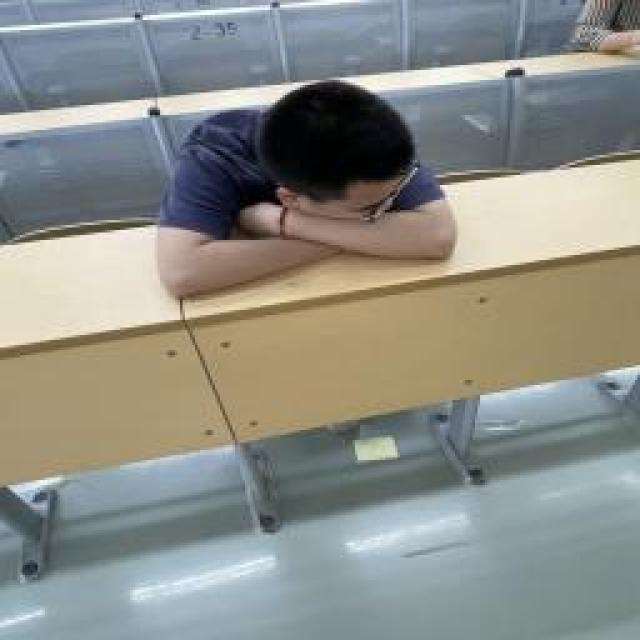sleep: (155, 80, 460, 298)
